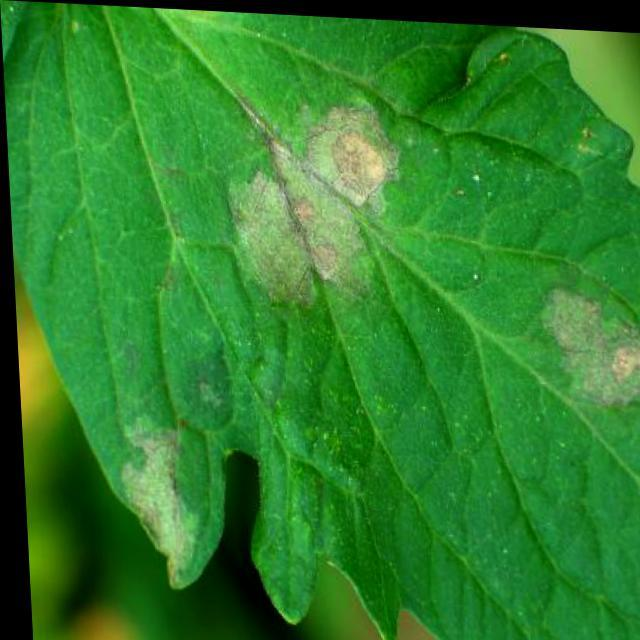Tomato mosaic virus leaf: (15, 2, 639, 639)
